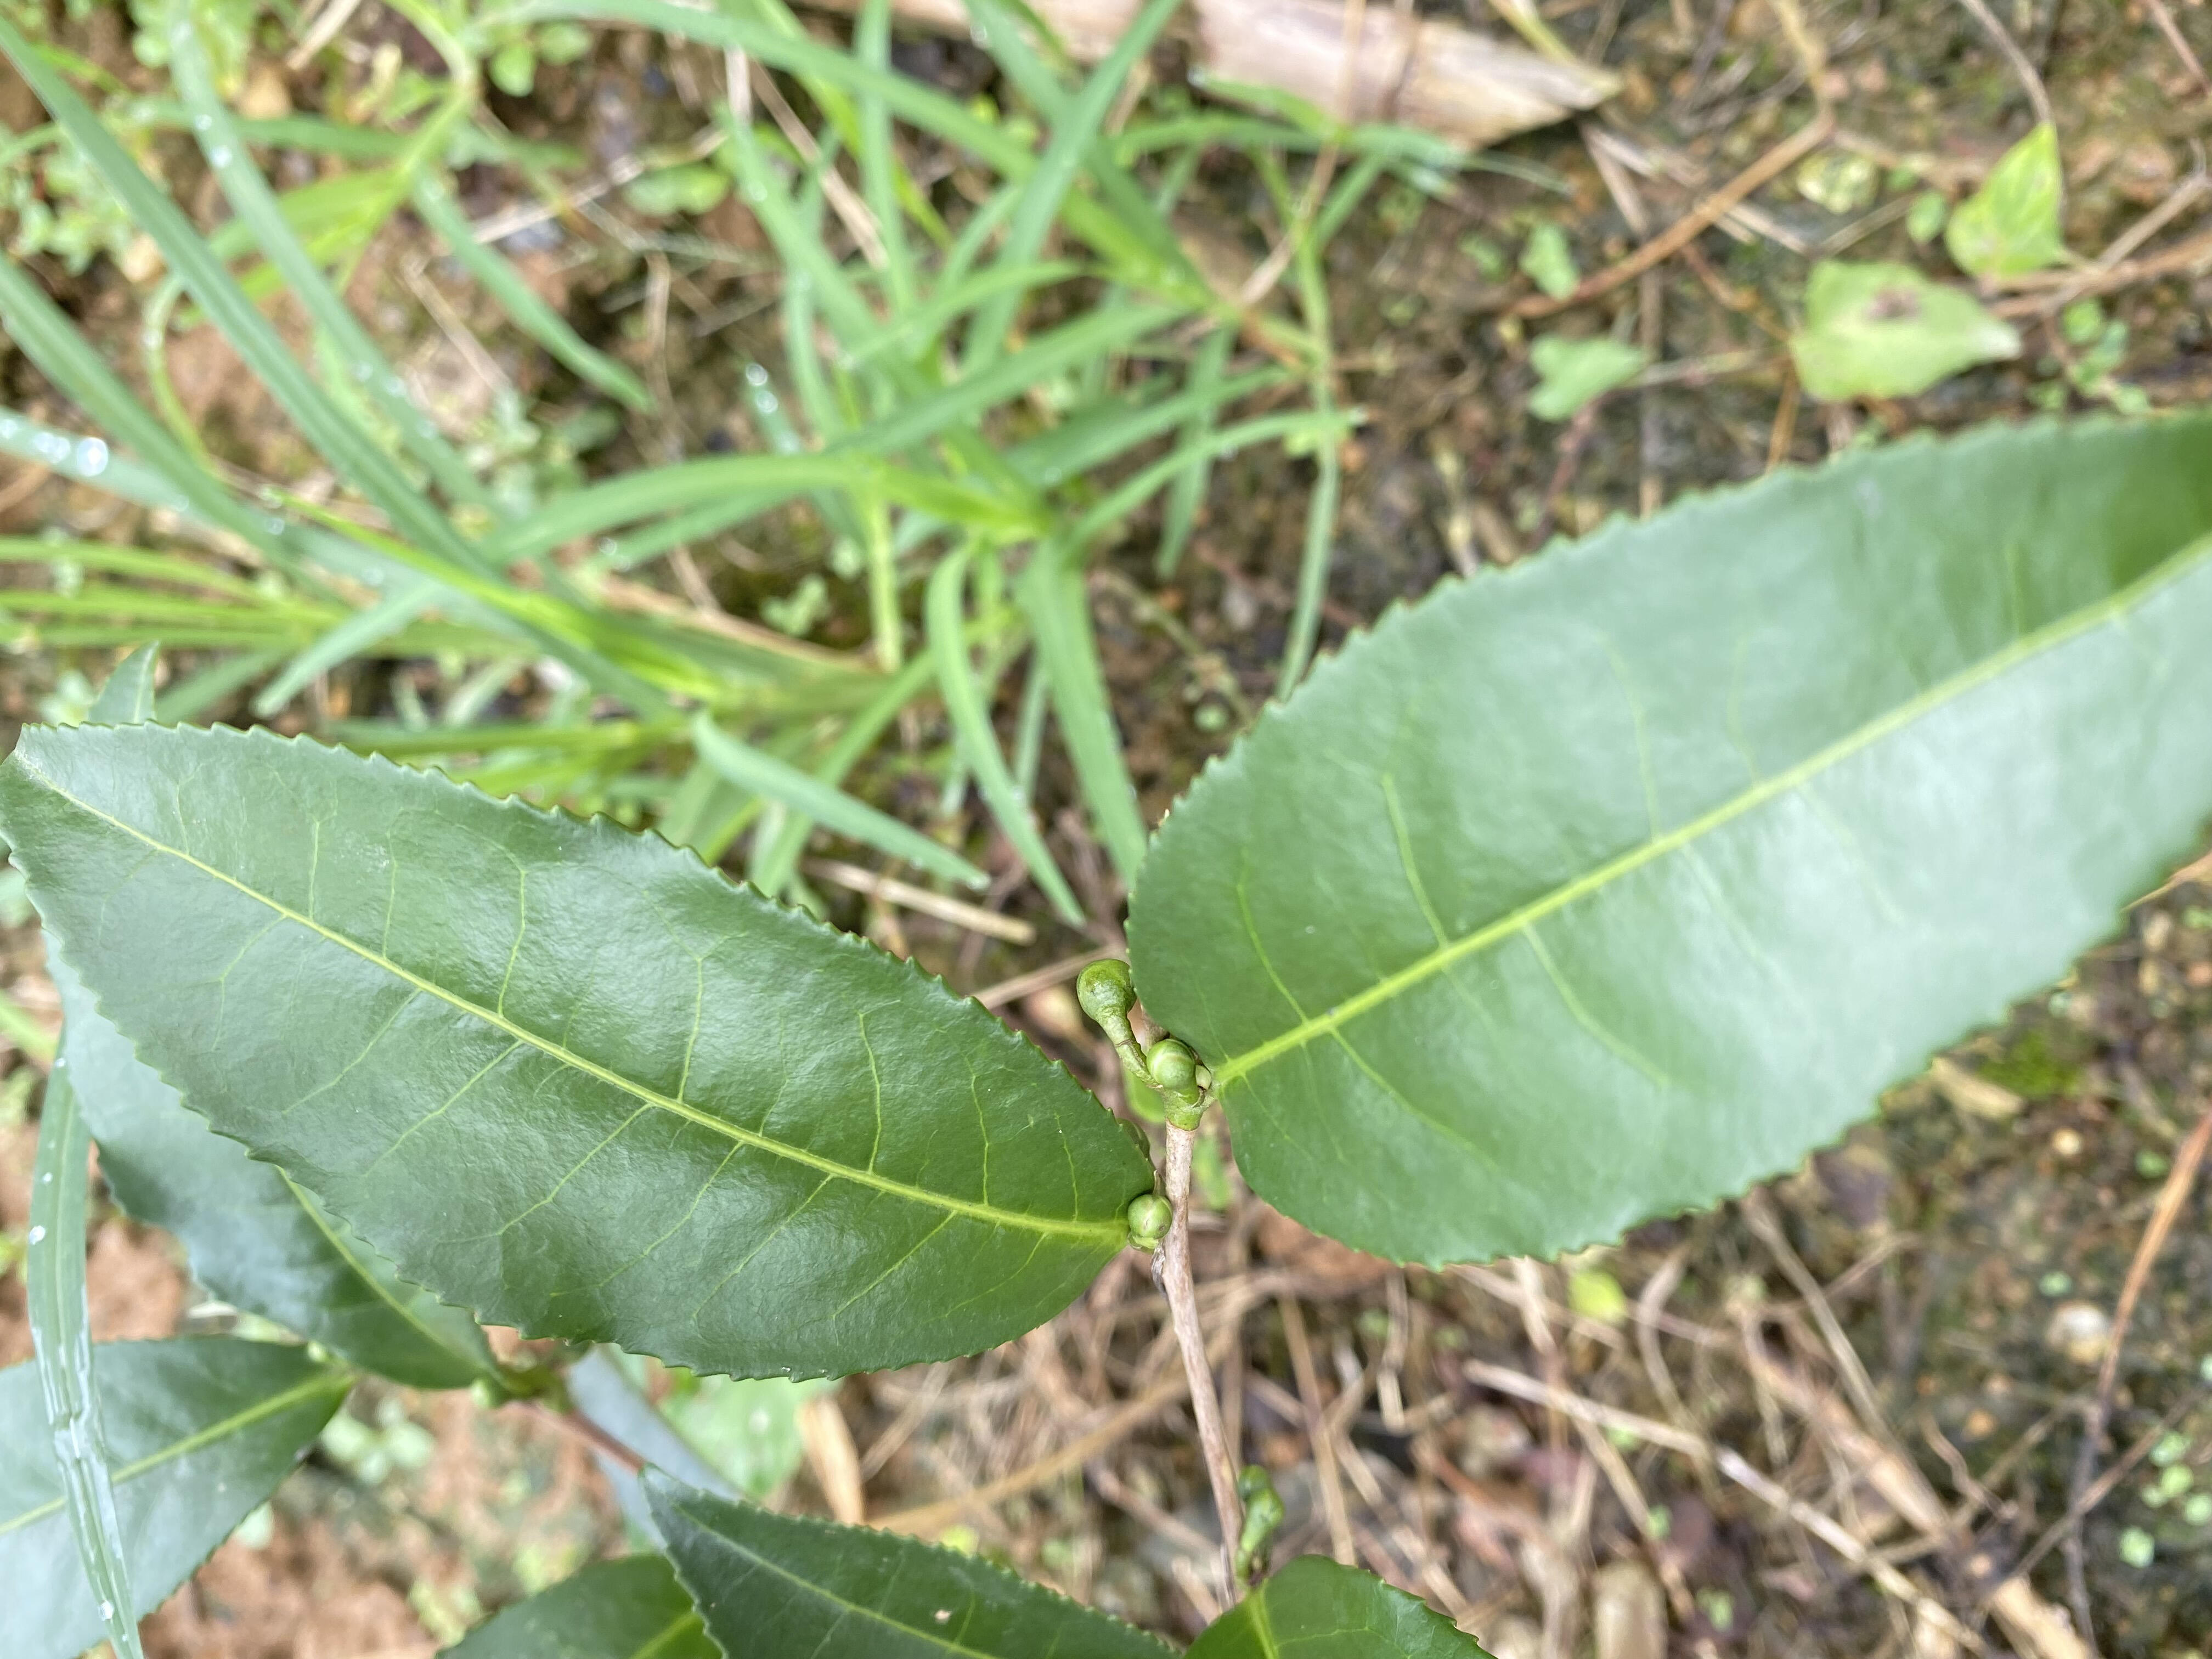healthy: (1122, 406, 2207, 1274), (21, 720, 1160, 1385)
